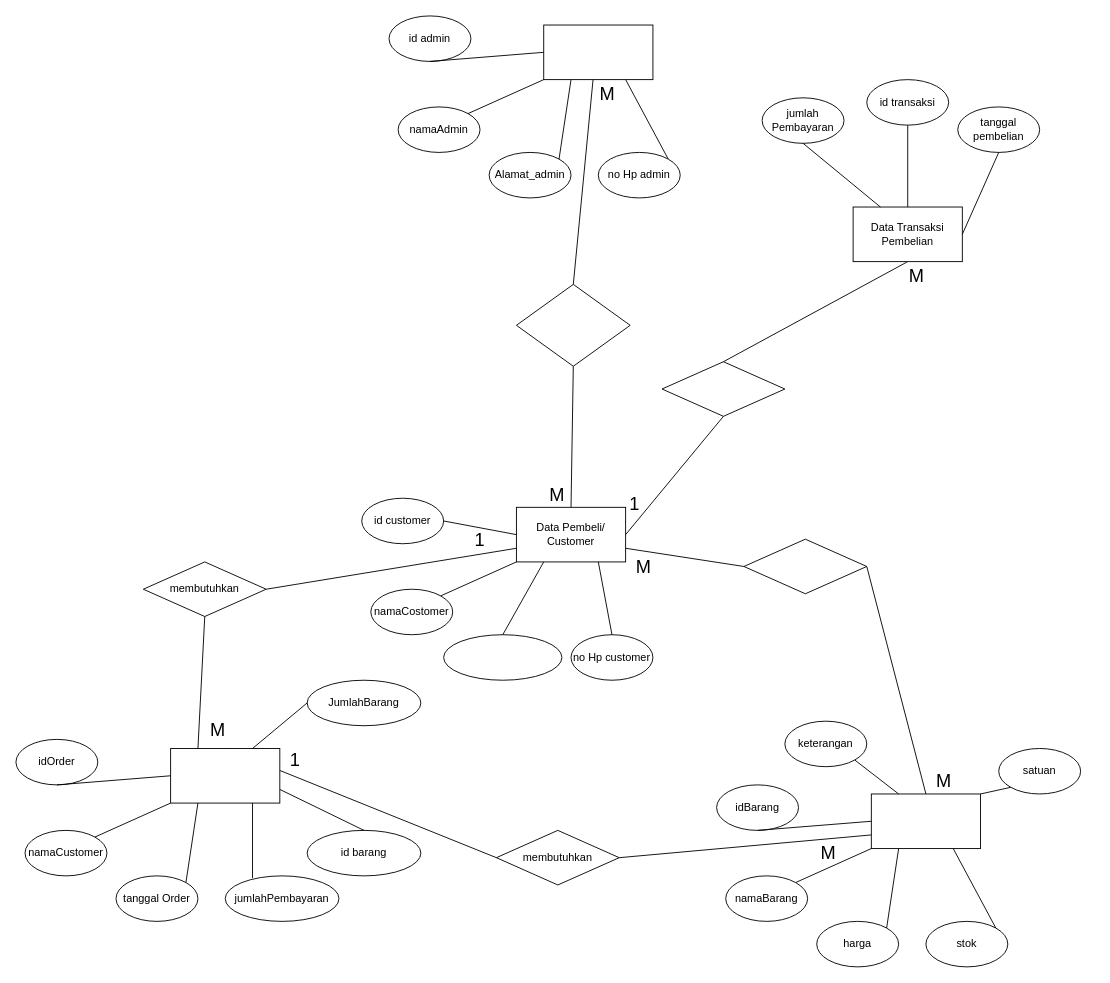
Image size: 1110x983. Some labels were removed from this diagram. The box of each missing label's shape, as (x1, y1, x2, y2) in pixels:
alamat_customer: (443, 634, 562, 680)
Berkonsultasi, Membantu: (516, 283, 630, 366)
Data Admin: (543, 24, 653, 80)
Data Order: (170, 748, 280, 803)
Data Produk: (870, 793, 981, 849)
membeli: (743, 538, 867, 594)
Memiliki: (661, 361, 785, 416)
